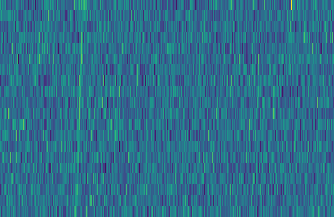signal: (68, 0, 85, 217)
